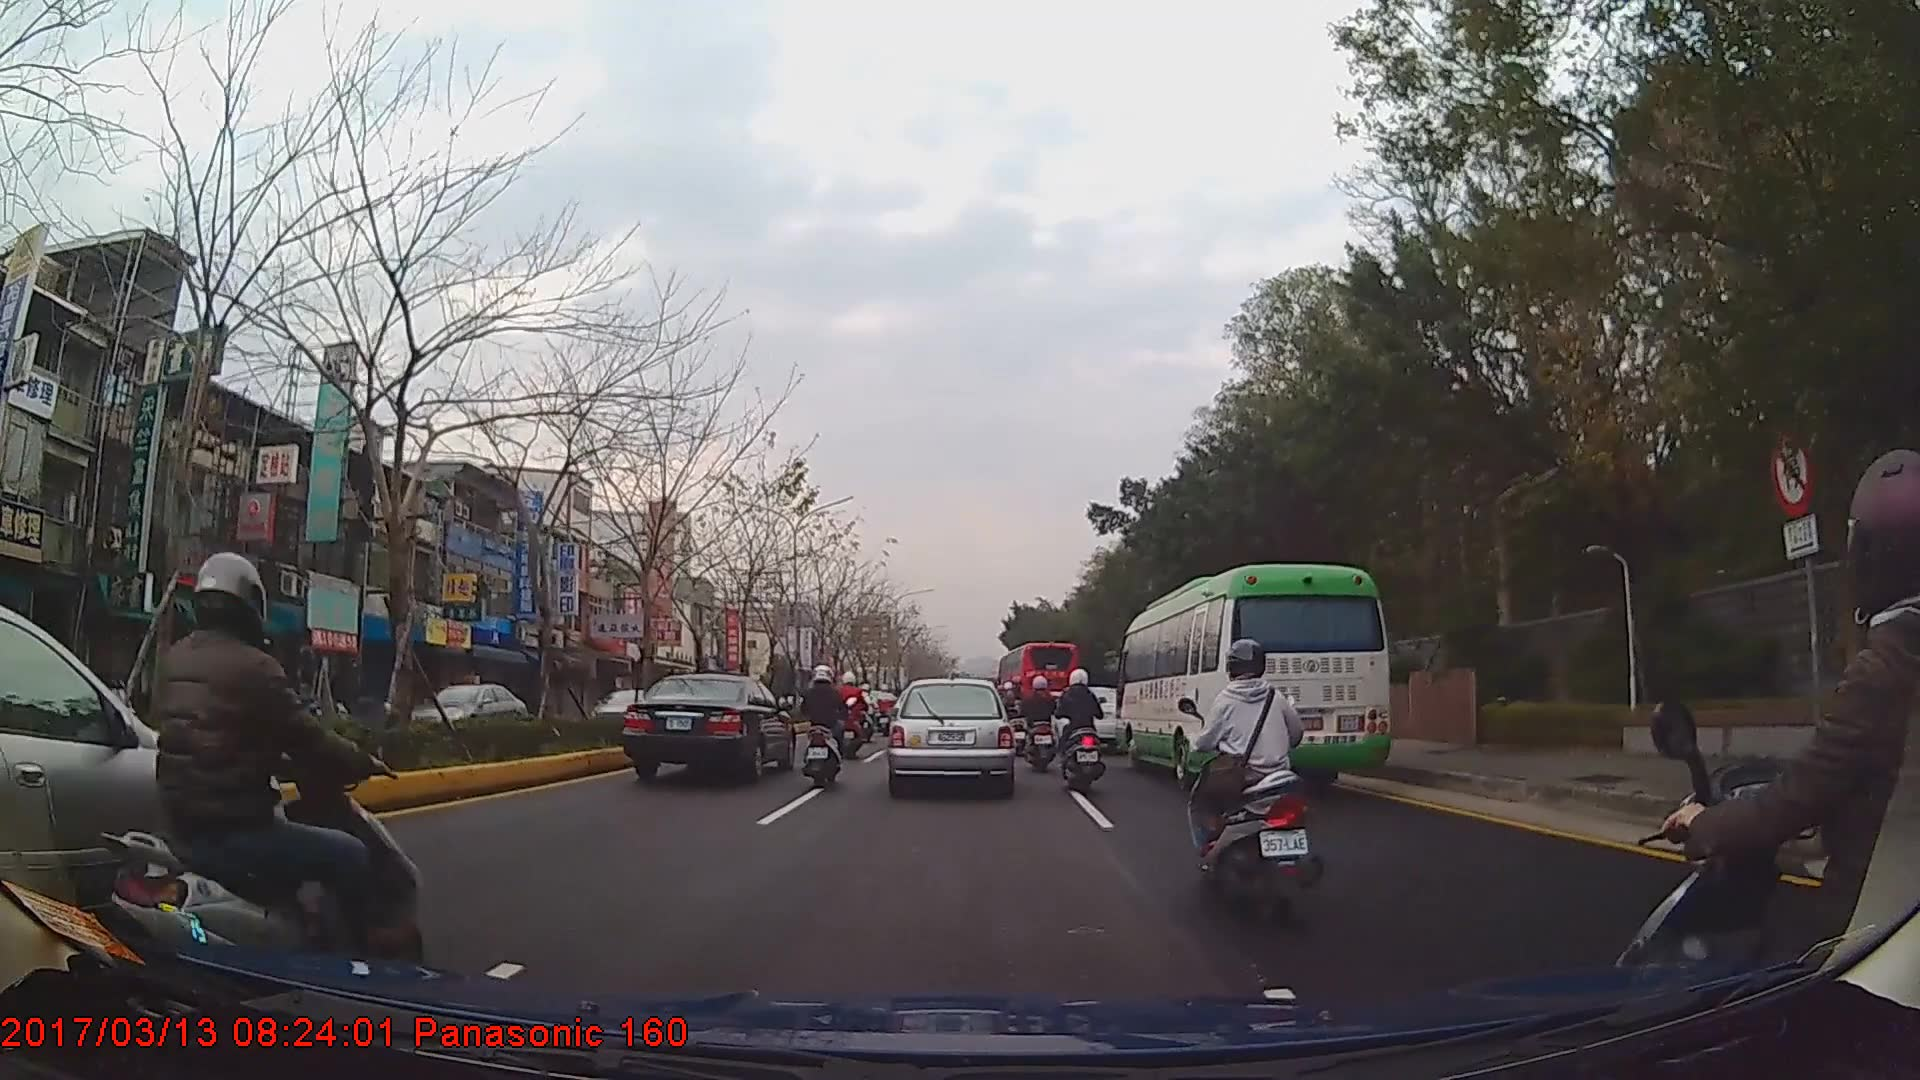rider: (1618, 449, 1920, 1080), (92, 551, 417, 1015), (1184, 640, 1322, 923), (801, 667, 853, 793), (1057, 670, 1107, 794), (1022, 674, 1060, 774), (836, 672, 870, 758), (1006, 676, 1030, 756), (855, 687, 882, 744), (876, 683, 898, 727)
vehicle: (1115, 563, 1392, 796), (616, 672, 797, 784), (885, 677, 1013, 796), (406, 681, 526, 750), (997, 640, 1081, 735)
